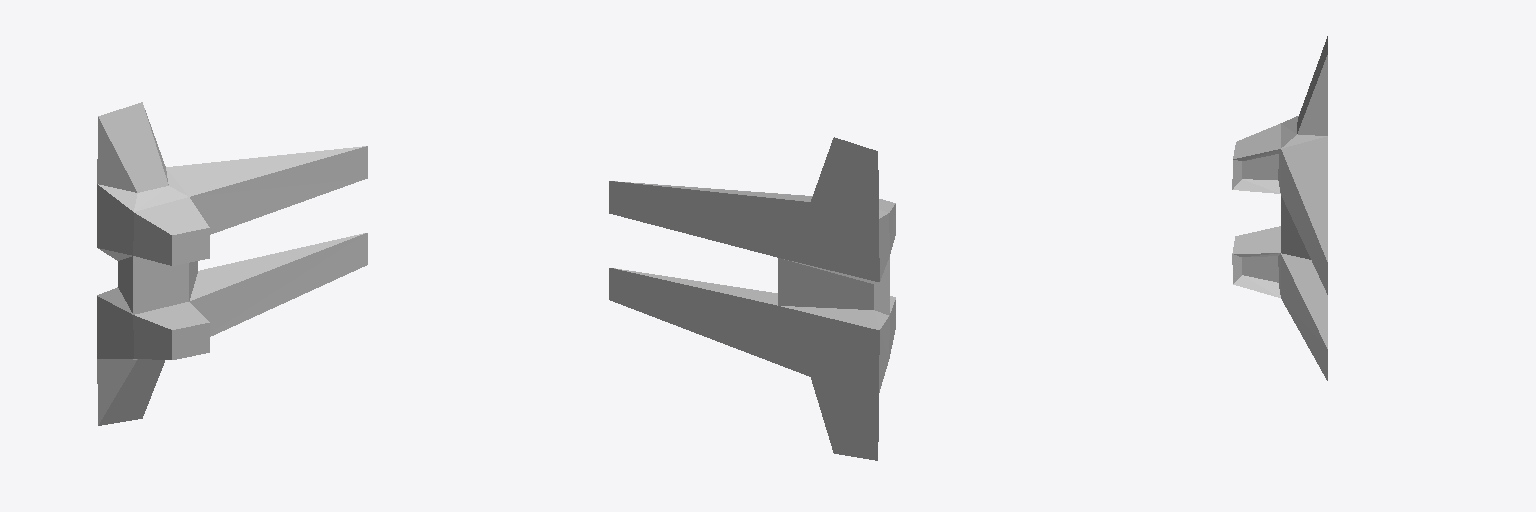
The model's file is gemini.obj.
3 renders of one model, left to right at view 1: azimuth 30°, elevation 25°; view 2: azimuth 150°, elevation 25°; view 3: azimuth 270°, elevation 25°, orthographic.
Visible parts, largest first — view 1: Box001_Untitled; view 2: Box001_Untitled; view 3: Box001_Untitled.
Boxes of the visible parts, x1=… form: Box001_Untitled: x1=97, y1=102, x2=367, y2=425; Box001_Untitled: x1=609, y1=137, x2=895, y2=460; Box001_Untitled: x1=1232, y1=36, x2=1327, y2=380.
Bounding box in the file's own units: 0.9755 × 1.09 × 0.2975.